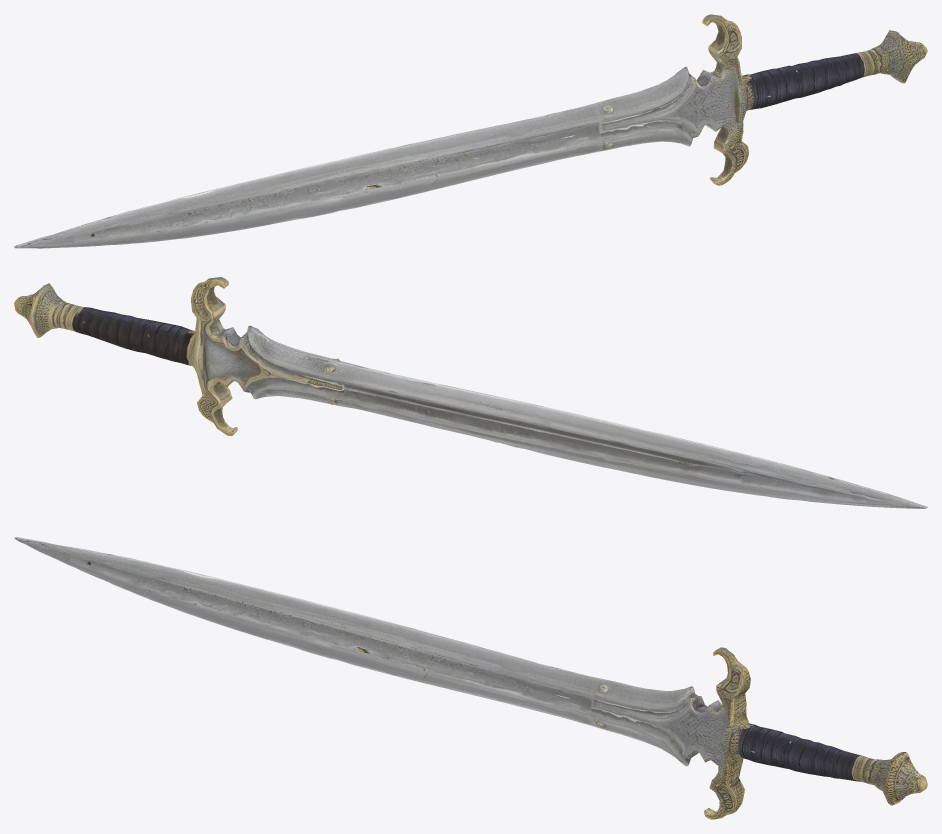
File: wpn-greatsword.glb
The picture shows the model from 3 angles, top to bottom: view 1: azimuth 30°, elevation 25°; view 2: azimuth 150°, elevation 25°; view 3: azimuth 330°, elevation 25°; orthographic projection.
Size of the model in its own units: 3.79 by 0.649 by 0.176.
Materials: 1 (1 with a texture image).
